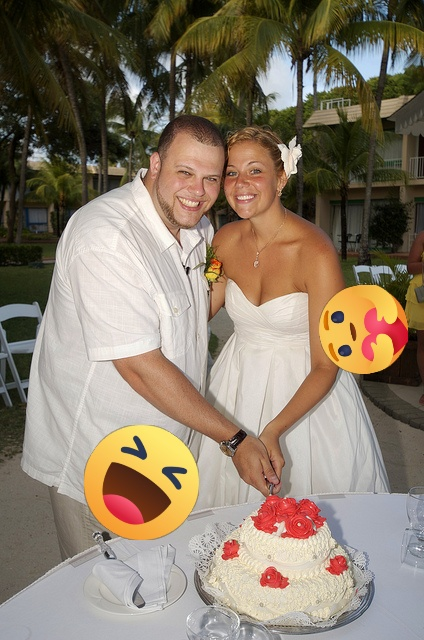care: (319, 285, 408, 374)
haha: (84, 425, 199, 540)
